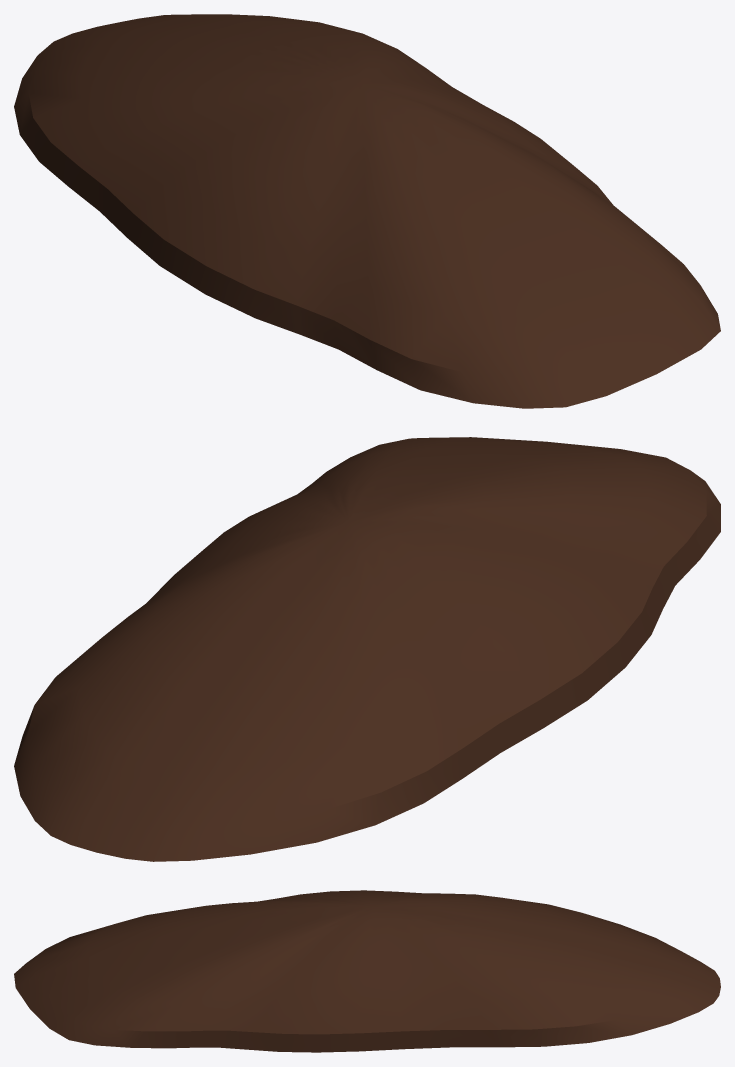
The model's file is gravedirt2.fbx.
The picture shows the model from 3 angles, top to bottom: view 1: azimuth 30°, elevation 25°; view 2: azimuth 150°, elevation 25°; view 3: azimuth 270°, elevation 25°; orthographic projection. The views are drawn at different scales.
Visible parts, largest first — view 1: Grave Ground 1; view 2: Grave Ground 1; view 3: Grave Ground 1.
Part boxes in pixels (x1=…): Grave Ground 1: x1=14, y1=14, x2=720, y2=408; Grave Ground 1: x1=14, y1=437, x2=720, y2=861; Grave Ground 1: x1=14, y1=890, x2=720, y2=1052.
Bounding box in the file's own units: 323 × 97.25 × 726.
